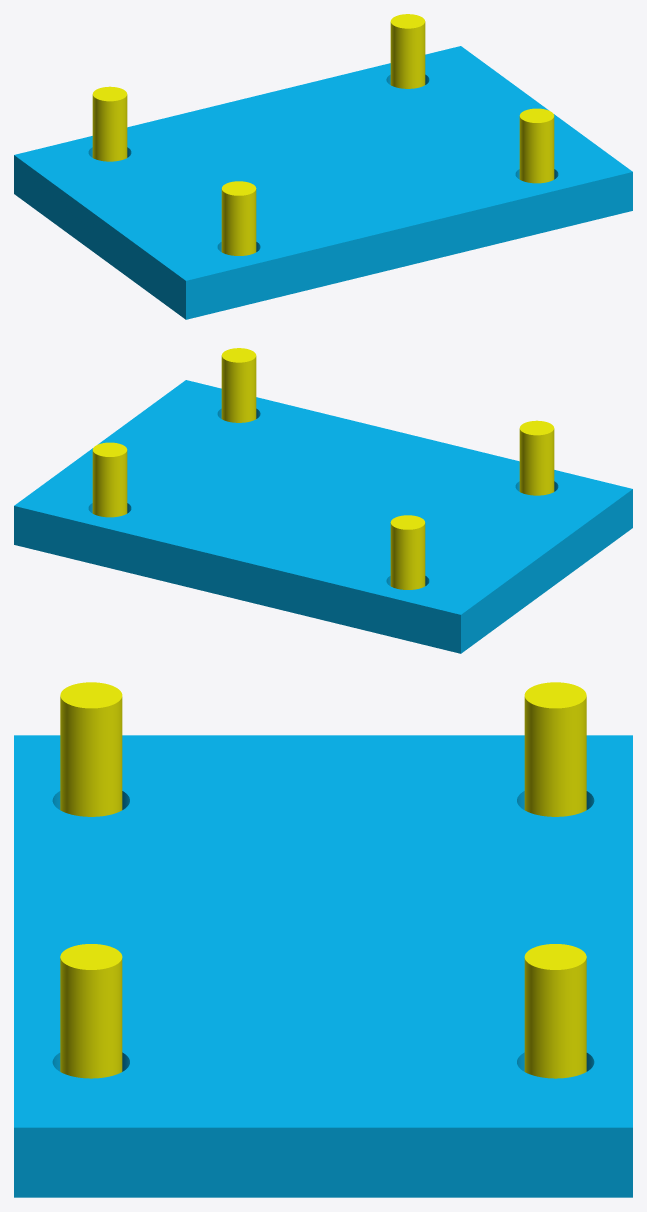
Rendered from type_cylinder_vida.gltf.
The picture shows the model from 3 angles, top to bottom: view 1: azimuth 30°, elevation 25°; view 2: azimuth 150°, elevation 25°; view 3: azimuth 270°, elevation 25°; orthographic projection. The views are drawn at different scales.
Parts seen in each view (by area): view 1: Open CASCADE STEP translator 7.8 2.1, Open CASCADE STEP translator 7.8 2.3, Open CASCADE STEP translator 7.8 2.4, Open CASCADE STEP translator 7.8 2.2, Open CASCADE STEP translator 7.8 2.5; view 2: Open CASCADE STEP translator 7.8 2.1, Open CASCADE STEP translator 7.8 2.5, Open CASCADE STEP translator 7.8 2.2, Open CASCADE STEP translator 7.8 2.4, Open CASCADE STEP translator 7.8 2.3; view 3: Open CASCADE STEP translator 7.8 2.1, Open CASCADE STEP translator 7.8 2.2, Open CASCADE STEP translator 7.8 2.3, Open CASCADE STEP translator 7.8 2.4, Open CASCADE STEP translator 7.8 2.5.
Boxes of the visible parts, <box> form: Open CASCADE STEP translator 7.8 2.1: <box>14,46,632,319</box>; Open CASCADE STEP translator 7.8 2.3: <box>519,108,554,183</box>; Open CASCADE STEP translator 7.8 2.4: <box>92,86,127,161</box>; Open CASCADE STEP translator 7.8 2.2: <box>221,181,256,255</box>; Open CASCADE STEP translator 7.8 2.5: <box>390,14,425,88</box>; Open CASCADE STEP translator 7.8 2.1: <box>14,380,632,653</box>; Open CASCADE STEP translator 7.8 2.5: <box>92,442,127,517</box>; Open CASCADE STEP translator 7.8 2.2: <box>519,420,554,495</box>; Open CASCADE STEP translator 7.8 2.4: <box>390,515,425,589</box>; Open CASCADE STEP translator 7.8 2.3: <box>221,348,256,422</box>; Open CASCADE STEP translator 7.8 2.1: <box>14,735,632,1197</box>; Open CASCADE STEP translator 7.8 2.2: <box>60,682,122,816</box>; Open CASCADE STEP translator 7.8 2.3: <box>60,944,122,1078</box>; Open CASCADE STEP translator 7.8 2.4: <box>524,682,586,816</box>; Open CASCADE STEP translator 7.8 2.5: <box>524,944,586,1078</box>.
Size of the model in its own units: 0.06 by 0.0125 by 0.04.
